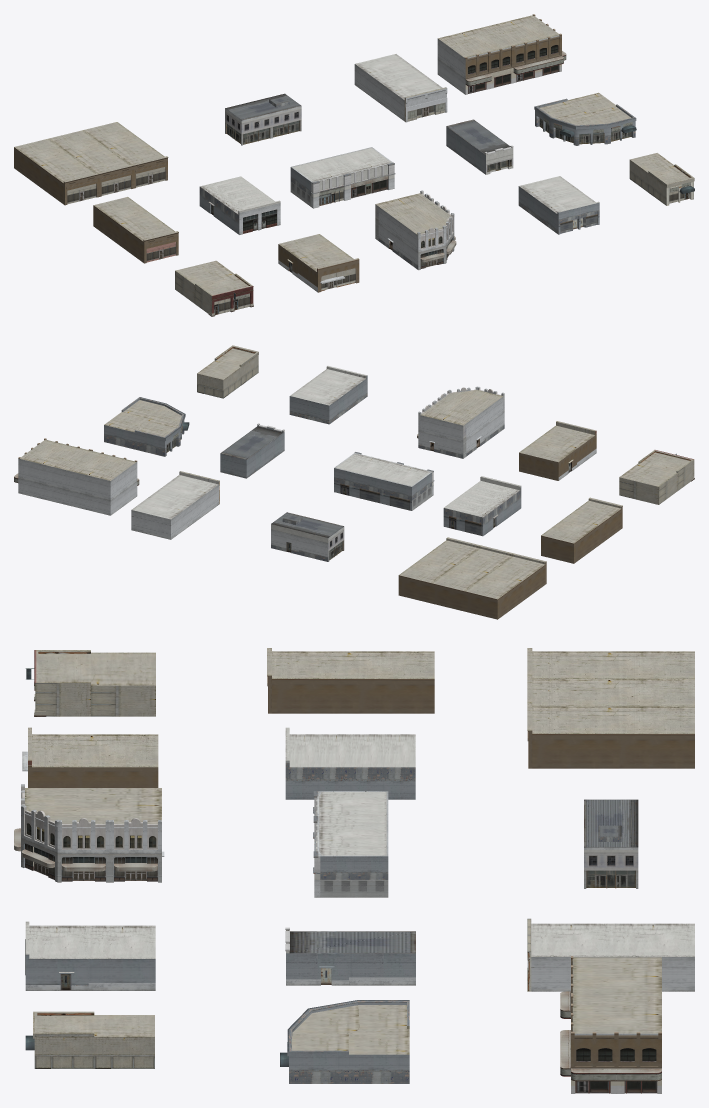
File: midcity_buildings.glb
3 renders of one model, top to bottom at view 1: azimuth 30°, elevation 25°; view 2: azimuth 150°, elevation 25°; view 3: azimuth 270°, elevation 25°, orthographic. The views are drawn at different scales.
Parts seen in each view (by area): view 1: MidCity_Commercial_5_B_Midcity_Facade_FLR_1_0, MidCity_Commercial_14_Midcity_Facade_FLR_1_0, MidCity_Commercial_6_Midcity_Facade_FLR_2_0, MidCity_Commercial_1_Midcity_Facade_FLR_2_0, MidCity_Commercial_7_Midcity_Facade_FLR_2_0, MidCity_Commercial_14_Midcity_Walls_FLR_1_0, MidCity_Commercial_11_Midcity_Facade_FLR_1_0, MidCity_Commercial_4_Midcity_Facade_FLR_2_0, MidCity_Commercial_2_Midcity_Facade_FLR_2_0, MidCity_Commercial_8_Midcity_Facade_FLR_2_0, MidCity_Commercial_15_Midcity_Facade_FLR_2_0, MidCity_Commercial_8_Midcity_Facade_FLR_1_0 (+11 smaller); view 2: MidCity_Commercial_5_B_Midcity_Facade_FLR_1_0, MidCity_Commercial_14_Midcity_Walls_FLR_1_0, MidCity_Commercial_1_Midcity_Facade_FLR_2_0, MidCity_Commercial_6_Midcity_Facade_FLR_2_0, MidCity_Commercial_8_Midcity_Facade_FLR_2_0, MidCity_Commercial_2_Midcity_Facade_FLR_2_0, MidCity_Commercial_5_B_Midcity_Walls_FLR_1_0, MidCity_Commercial_7_Midcity_Facade_FLR_2_0, MidCity_Commercial_11_Midcity_Facade_FLR_1_0, MidCity_Commercial_4_Midcity_Facade_FLR_2_0, MidCity_Commercial_14_Midcity_Facade_FLR_1_0, MidCity_Commercial_15_Midcity_Facade_FLR_2_0 (+8 smaller); view 3: MidCity_Commercial_5_B_Midcity_Facade_FLR_1_0, MidCity_Commercial_14_Midcity_Facade_FLR_1_0, MidCity_Commercial_7_Midcity_Facade_FLR_2_0, MidCity_Commercial_8_Midcity_Facade_FLR_1_0, MidCity_Commercial_6_Midcity_Facade_FLR_2_0, MidCity_Commercial_11_Midcity_Facade_FLR_1_0, MidCity_Commercial_2_Midcity_Facade_FLR_2_0, MidCity_Commercial_1_Midcity_Facade_FLR_2_0, MidCity_Commercial_15_Midcity_Facade_FLR_2_0, MidCity_Commercial_12_Midcity_Facade_FLR_1_0, MidCity_Commercial_5_B_Midcity_Walls_FLR_1_0, MidCity_Commercial_5_Midcity_Walls_FLR_1_0 (+8 smaller).
Boxes of the visible parts, bbox=[...] form: MidCity_Commercial_5_B_Midcity_Facade_FLR_1_0: bbox=[14, 122, 167, 204]; MidCity_Commercial_14_Midcity_Facade_FLR_1_0: bbox=[438, 15, 566, 93]; MidCity_Commercial_6_Midcity_Facade_FLR_2_0: bbox=[354, 54, 447, 122]; MidCity_Commercial_1_Midcity_Facade_FLR_2_0: bbox=[290, 147, 395, 208]; MidCity_Commercial_7_Midcity_Facade_FLR_2_0: bbox=[518, 176, 599, 234]; MidCity_Commercial_14_Midcity_Walls_FLR_1_0: bbox=[437, 14, 561, 94]; MidCity_Commercial_11_Midcity_Facade_FLR_1_0: bbox=[175, 260, 253, 316]; MidCity_Commercial_4_Midcity_Facade_FLR_2_0: bbox=[225, 93, 301, 145]; MidCity_Commercial_2_Midcity_Facade_FLR_2_0: bbox=[199, 176, 280, 234]; MidCity_Commercial_8_Midcity_Facade_FLR_2_0: bbox=[375, 190, 454, 270]; MidCity_Commercial_15_Midcity_Facade_FLR_2_0: bbox=[446, 119, 513, 174]; MidCity_Commercial_8_Midcity_Facade_FLR_1_0: bbox=[375, 193, 456, 268]; MidCity_Commercial_5_B_Midcity_Facade_FLR_1_0: bbox=[399, 537, 546, 599]; MidCity_Commercial_14_Midcity_Walls_FLR_1_0: bbox=[18, 438, 137, 515]; MidCity_Commercial_1_Midcity_Facade_FLR_2_0: bbox=[334, 452, 434, 510]; MidCity_Commercial_6_Midcity_Facade_FLR_2_0: bbox=[131, 472, 218, 539]; MidCity_Commercial_8_Midcity_Facade_FLR_2_0: bbox=[418, 386, 504, 458]; MidCity_Commercial_2_Midcity_Facade_FLR_2_0: bbox=[443, 476, 521, 536]; MidCity_Commercial_5_B_Midcity_Walls_FLR_1_0: bbox=[398, 561, 546, 619]; MidCity_Commercial_7_Midcity_Facade_FLR_2_0: bbox=[289, 366, 367, 424]; MidCity_Commercial_11_Midcity_Facade_FLR_1_0: bbox=[619, 450, 694, 504]; MidCity_Commercial_4_Midcity_Facade_FLR_2_0: bbox=[271, 512, 344, 561]; MidCity_Commercial_14_Midcity_Facade_FLR_1_0: bbox=[14, 440, 139, 485]; MidCity_Commercial_15_Midcity_Facade_FLR_2_0: bbox=[220, 423, 284, 478]; MidCity_Commercial_5_B_Midcity_Facade_FLR_1_0: bbox=[527, 648, 694, 733]; MidCity_Commercial_14_Midcity_Facade_FLR_1_0: bbox=[560, 957, 661, 1093]; MidCity_Commercial_7_Midcity_Facade_FLR_2_0: bbox=[25, 921, 155, 990]; MidCity_Commercial_8_Midcity_Facade_FLR_1_0: bbox=[14, 788, 161, 881]; MidCity_Commercial_6_Midcity_Facade_FLR_2_0: bbox=[527, 923, 694, 991]; MidCity_Commercial_11_Midcity_Facade_FLR_1_0: bbox=[25, 650, 155, 716]; MidCity_Commercial_2_Midcity_Facade_FLR_2_0: bbox=[285, 727, 415, 799]; MidCity_Commercial_1_Midcity_Facade_FLR_2_0: bbox=[313, 791, 388, 897]; MidCity_Commercial_15_Midcity_Facade_FLR_2_0: bbox=[285, 927, 415, 985]; MidCity_Commercial_12_Midcity_Facade_FLR_1_0: bbox=[25, 1011, 154, 1068]; MidCity_Commercial_5_B_Midcity_Walls_FLR_1_0: bbox=[527, 730, 694, 768]; MidCity_Commercial_5_Midcity_Walls_FLR_1_0: bbox=[267, 675, 434, 713].
Size of the model in its own units: 151 by 10.75 by 105.
Materials: 3 (3 with a texture image).
